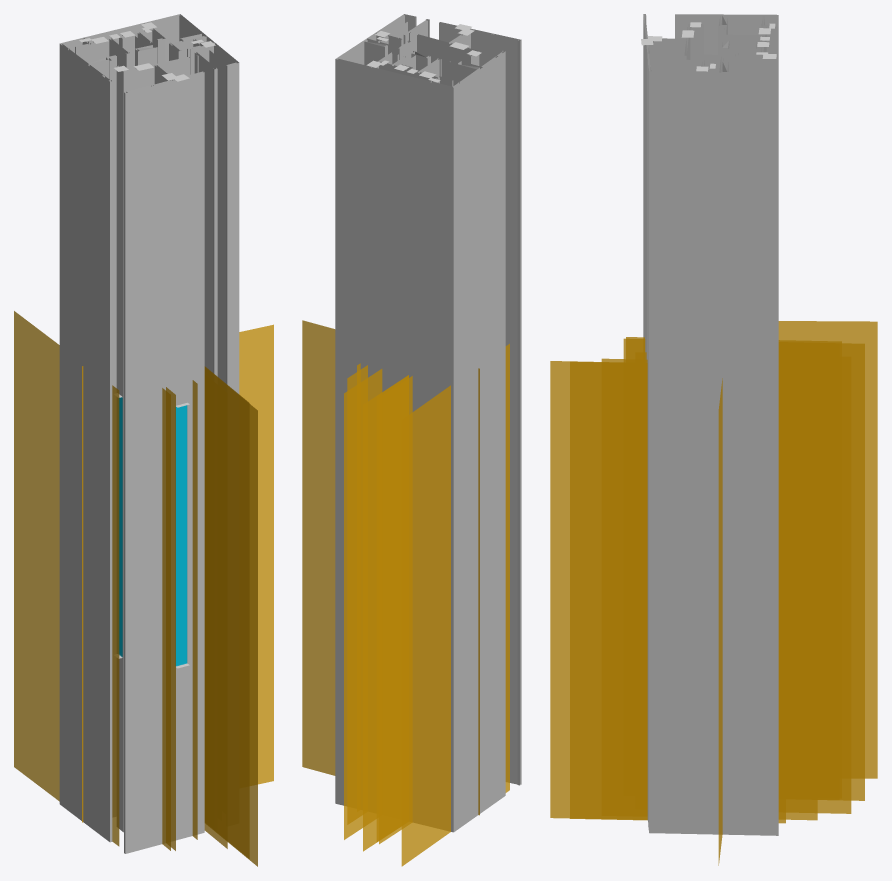
The model's file is 5aa1dc04-2d5a-4a07-bb65-2eb857a7fed5_no_roof.glb.
3 renders of one model, left to right at view 1: azimuth 30°, elevation 25°; view 2: azimuth 150°, elevation 25°; view 3: azimuth 270°, elevation 25°, orthographic. The views are drawn at different scales.
Parts seen in each view (by area): view 1: walls, doors, windows; view 2: walls, doors; view 3: walls, doors.
Part boxes in pixels (x1,y1,x2,y2): walls: (59,14,239,853); doors: (14,311,273,866); windows: (118,397,187,666); walls: (335,14,521,832); doors: (302,320,509,866); walls: (641,14,778,835); doors: (550,321,877,865).
Size of the model in its own units: 0.8989 by 3.5 by 1.36.
